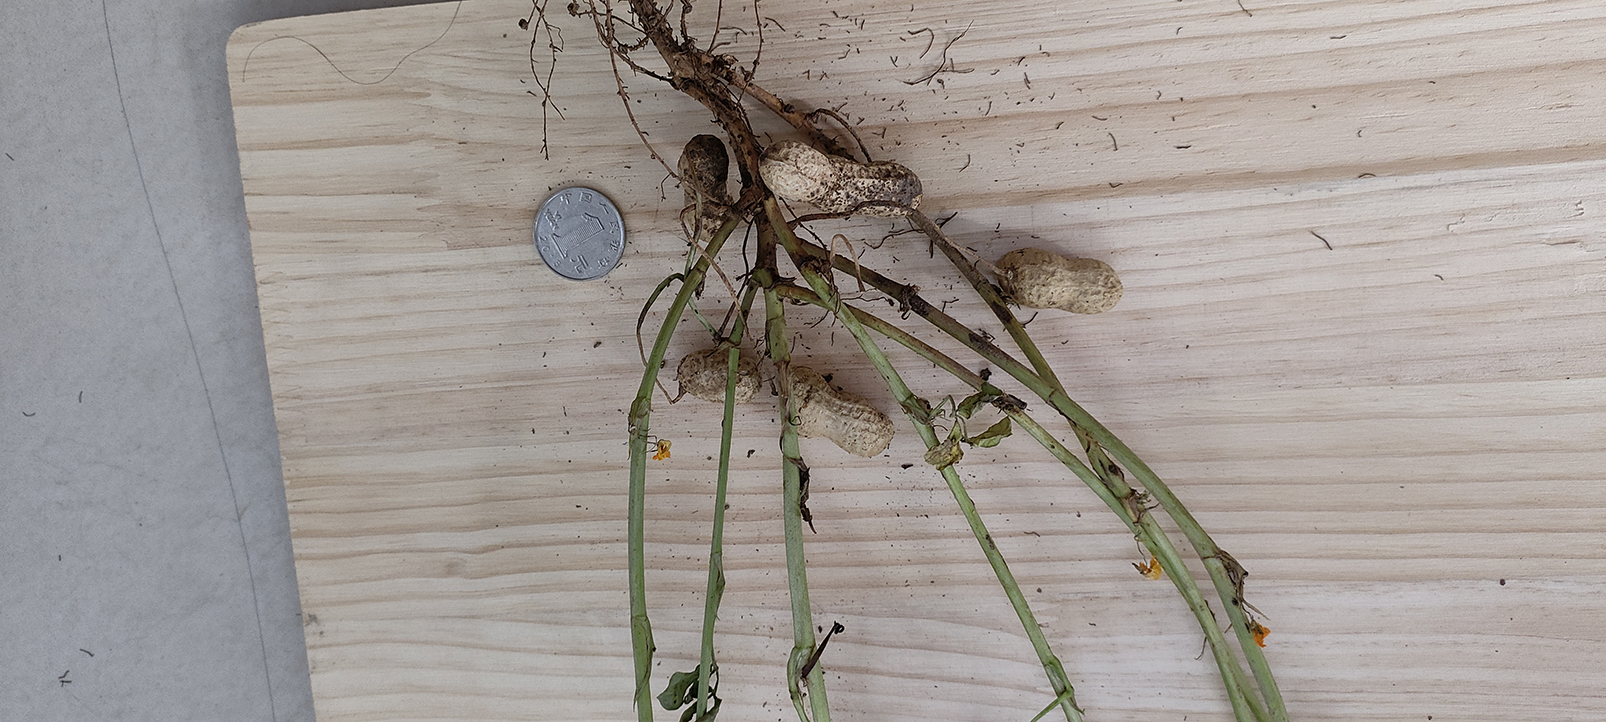h: (760, 138, 922, 218), (792, 367, 893, 456), (999, 247, 1124, 315)
l: (677, 134, 731, 244), (678, 351, 763, 405)
